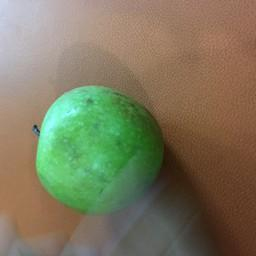Bad_apple: (32, 96, 158, 204)
